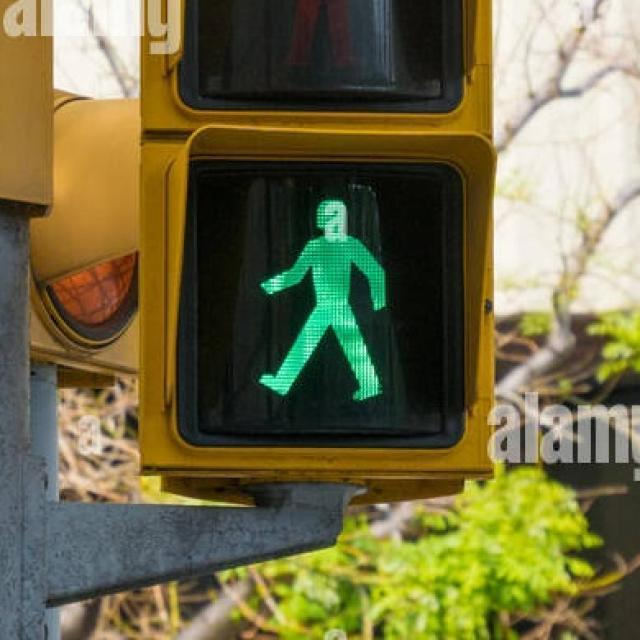geen-crossing: (254, 174, 402, 414)
